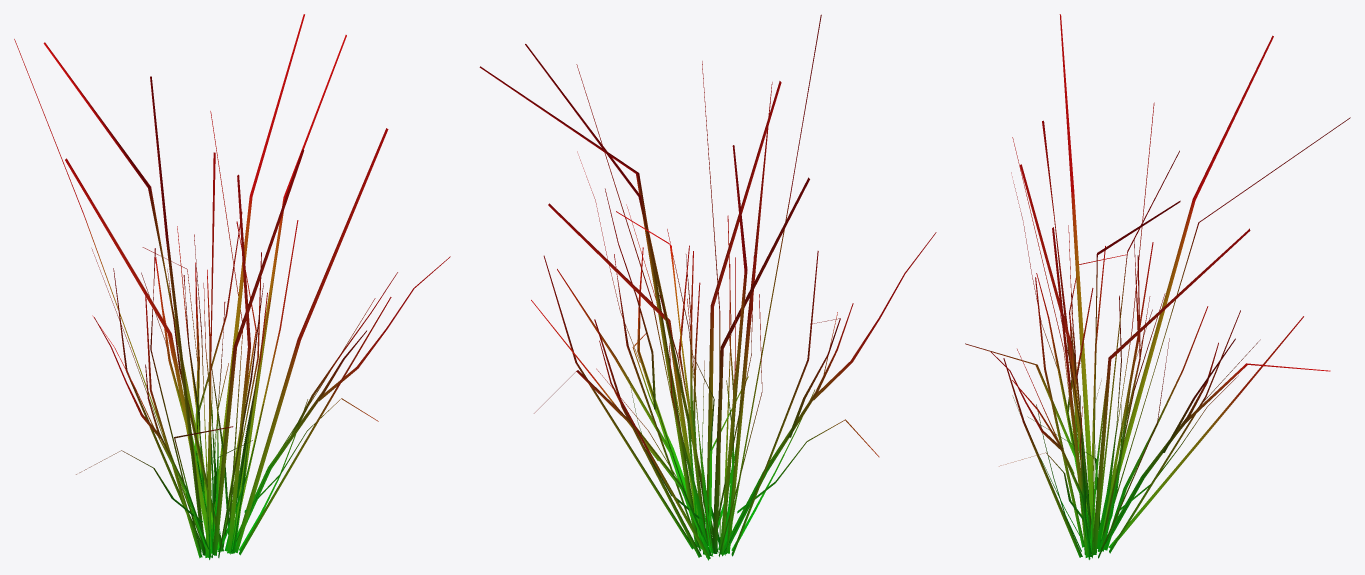
File: Xeric Grass_LOD2_Var1_xjfgdhaqx.fbx
3 views of the same model, side by side, from view 1: azimuth 30°, elevation 25°; view 2: azimuth 150°, elevation 25°; view 3: azimuth 270°, elevation 25° (orthographic). The views are drawn at different scales.
Visible parts, largest first — view 1: _uc5y_Var1_LOD2; view 2: _uc5y_Var1_LOD2; view 3: _uc5y_Var1_LOD2.
Boxes of the visible parts, box(x1,y1,x2,y2) form: _uc5y_Var1_LOD2: box(14, 14, 450, 559); _uc5y_Var1_LOD2: box(479, 14, 936, 560); _uc5y_Var1_LOD2: box(965, 14, 1350, 559).
Bounding box in the file's own units: 64.55 × 91.12 × 63.97.
